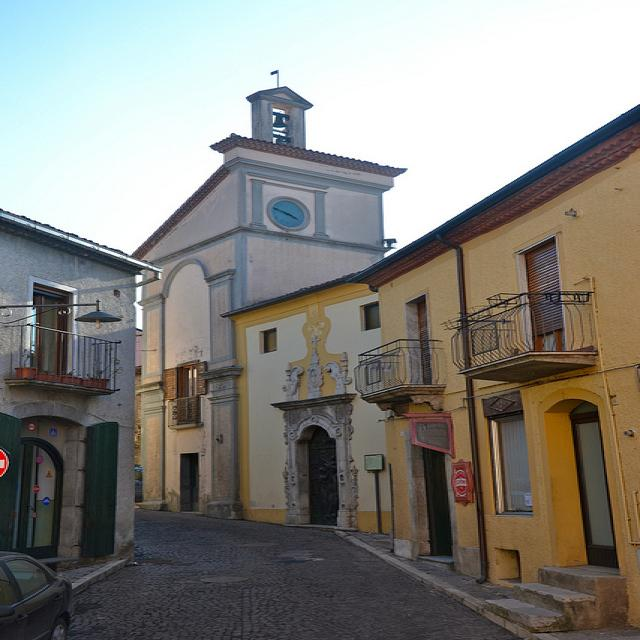Vehicle: (0, 552, 73, 640)
